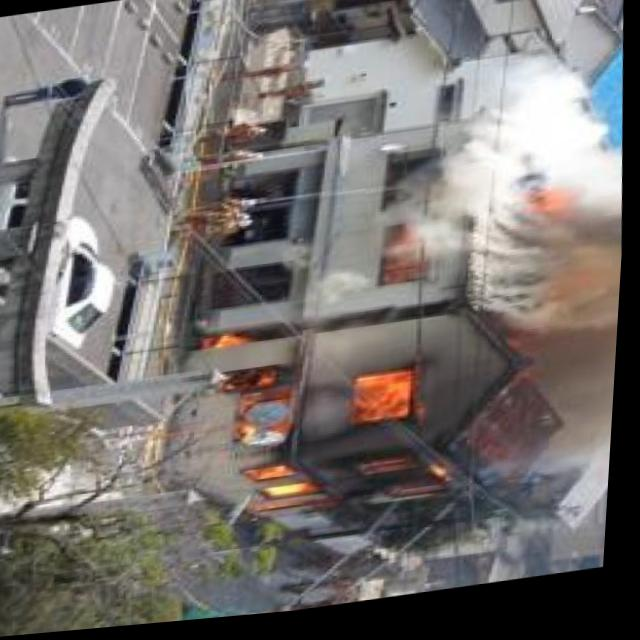Fire: (198, 286, 479, 558)
